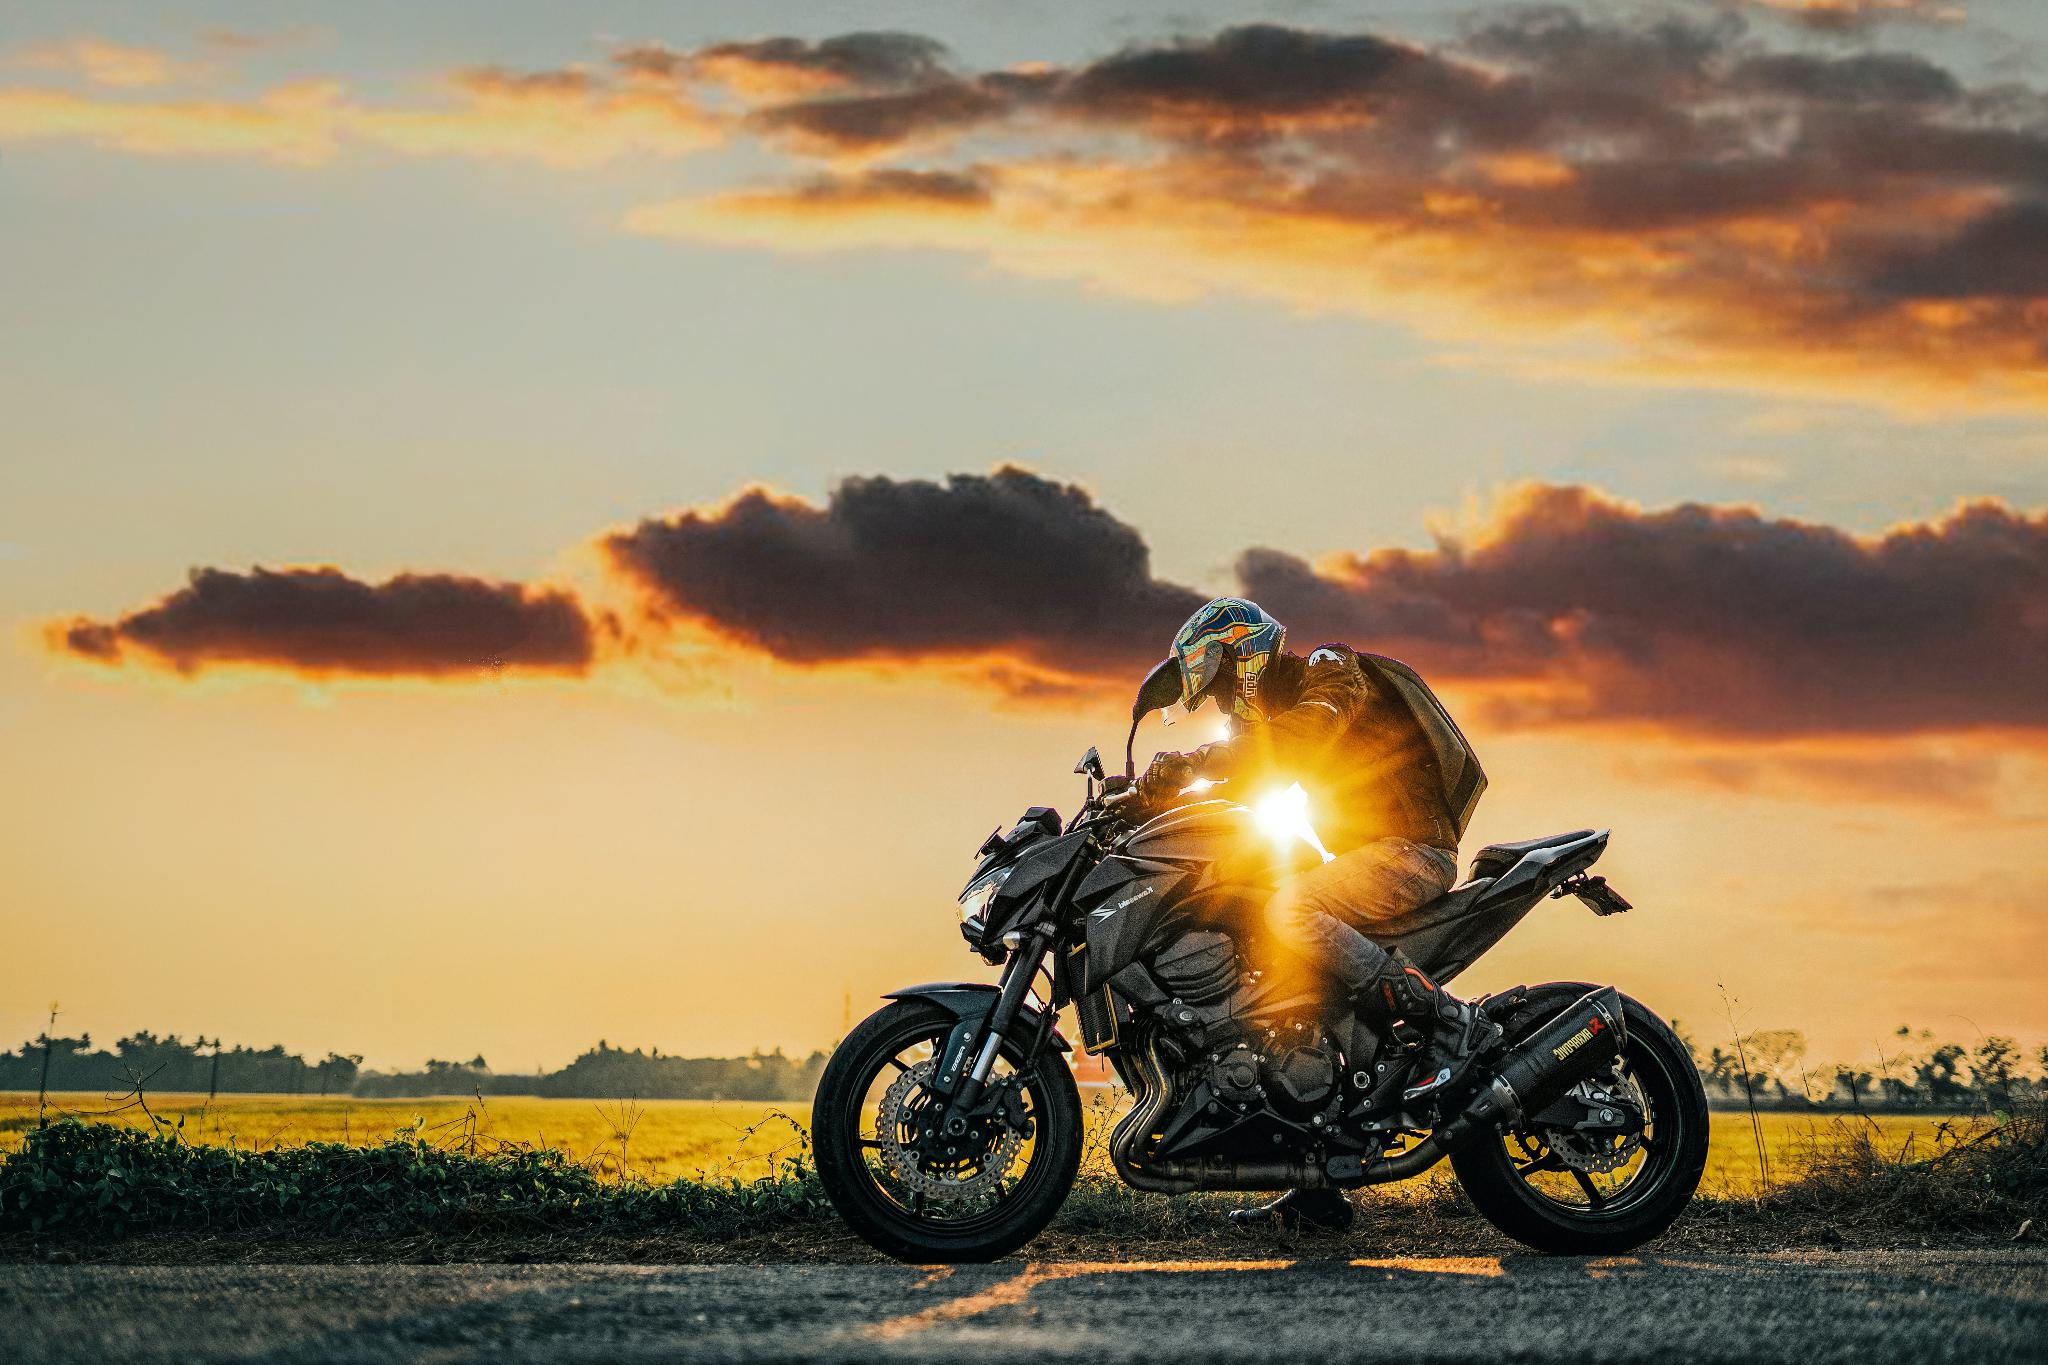motorcycle: (796, 635, 1718, 1274)
